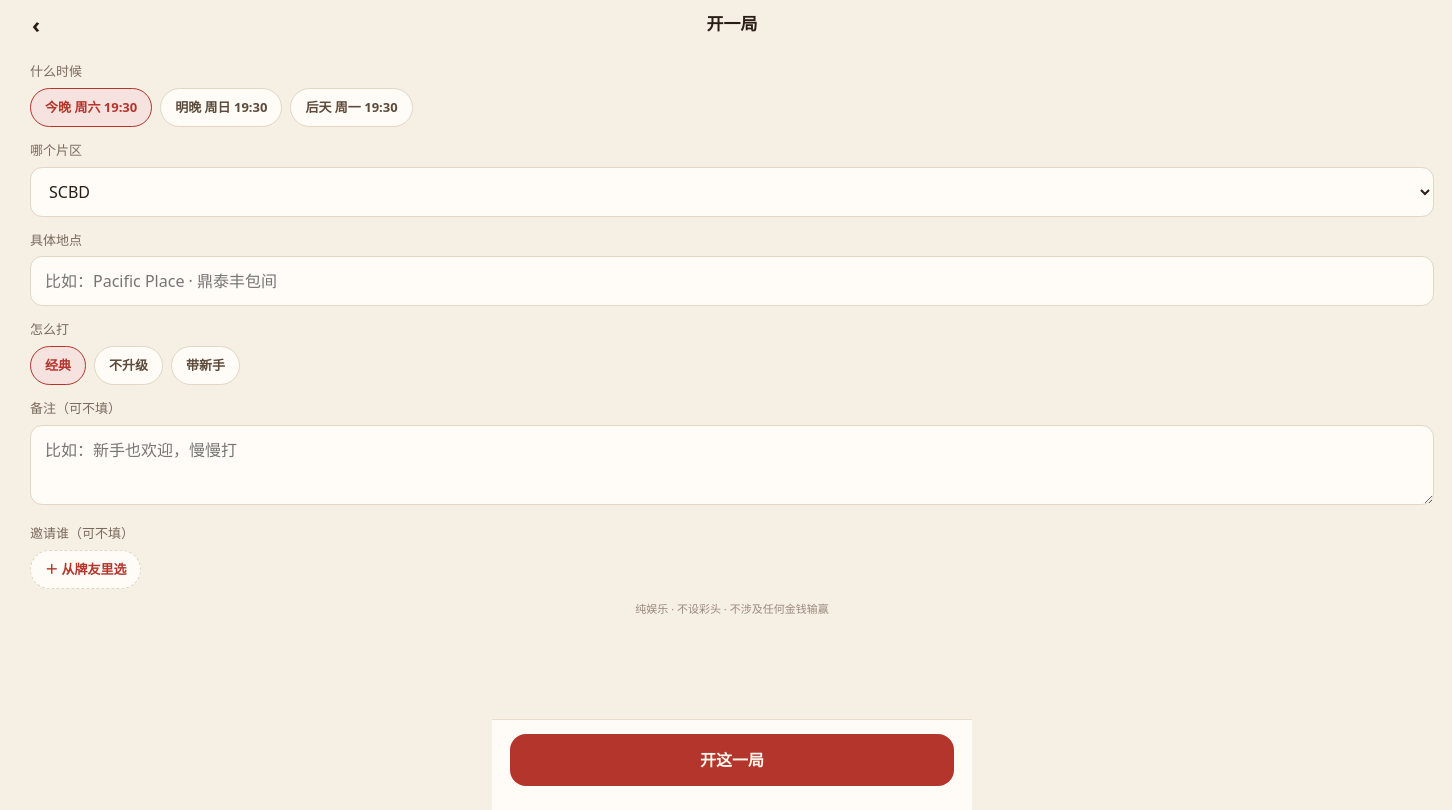
Test: 敏感词（§14、原型 X1） › 用户开始改那个字段，提示就收起来
In the field labelled "具体地点": (732, 281) [30,256,1434,306], type "Pacific Place"
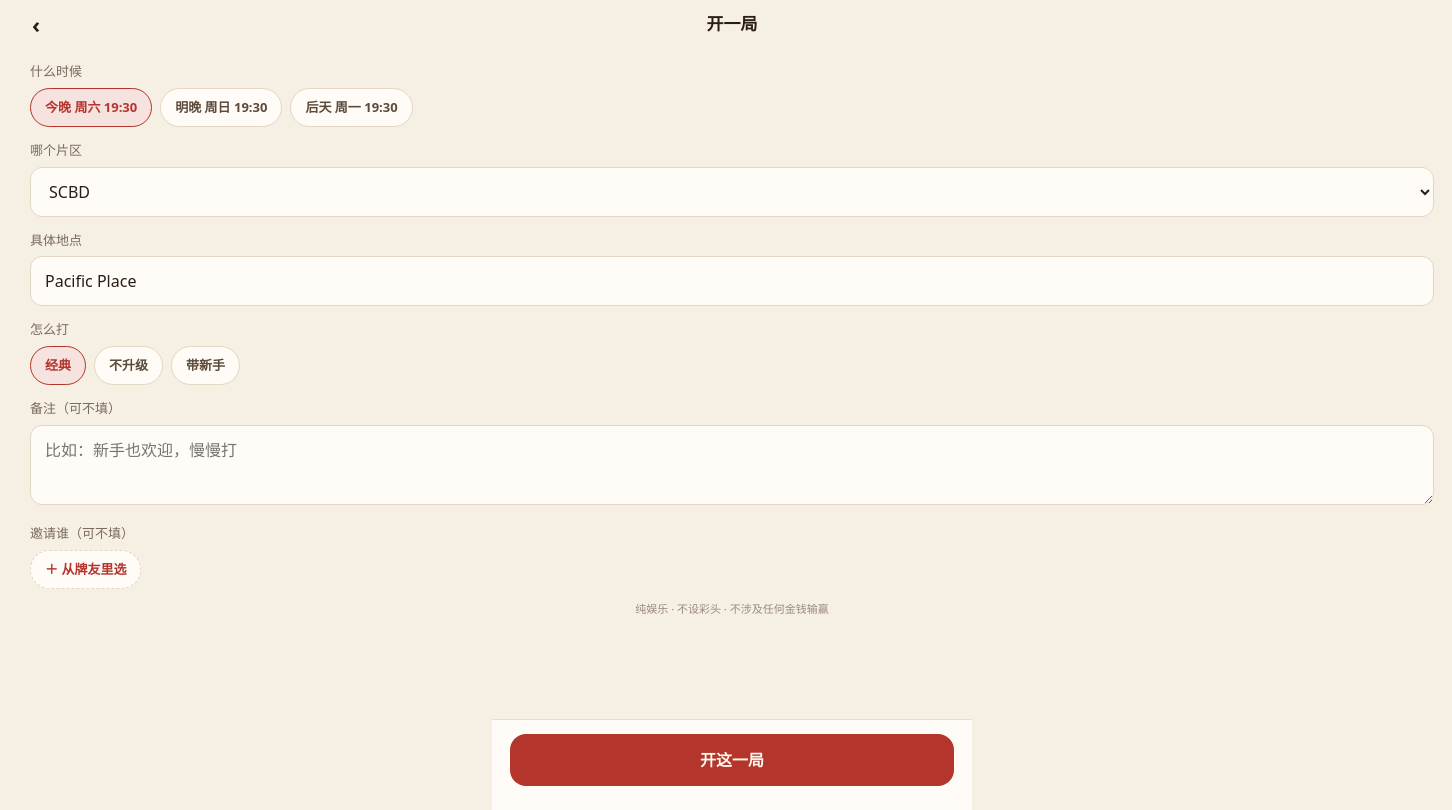
In the text box with id "note": (732, 464) [30,424,1434,504], type "小赌怡情"
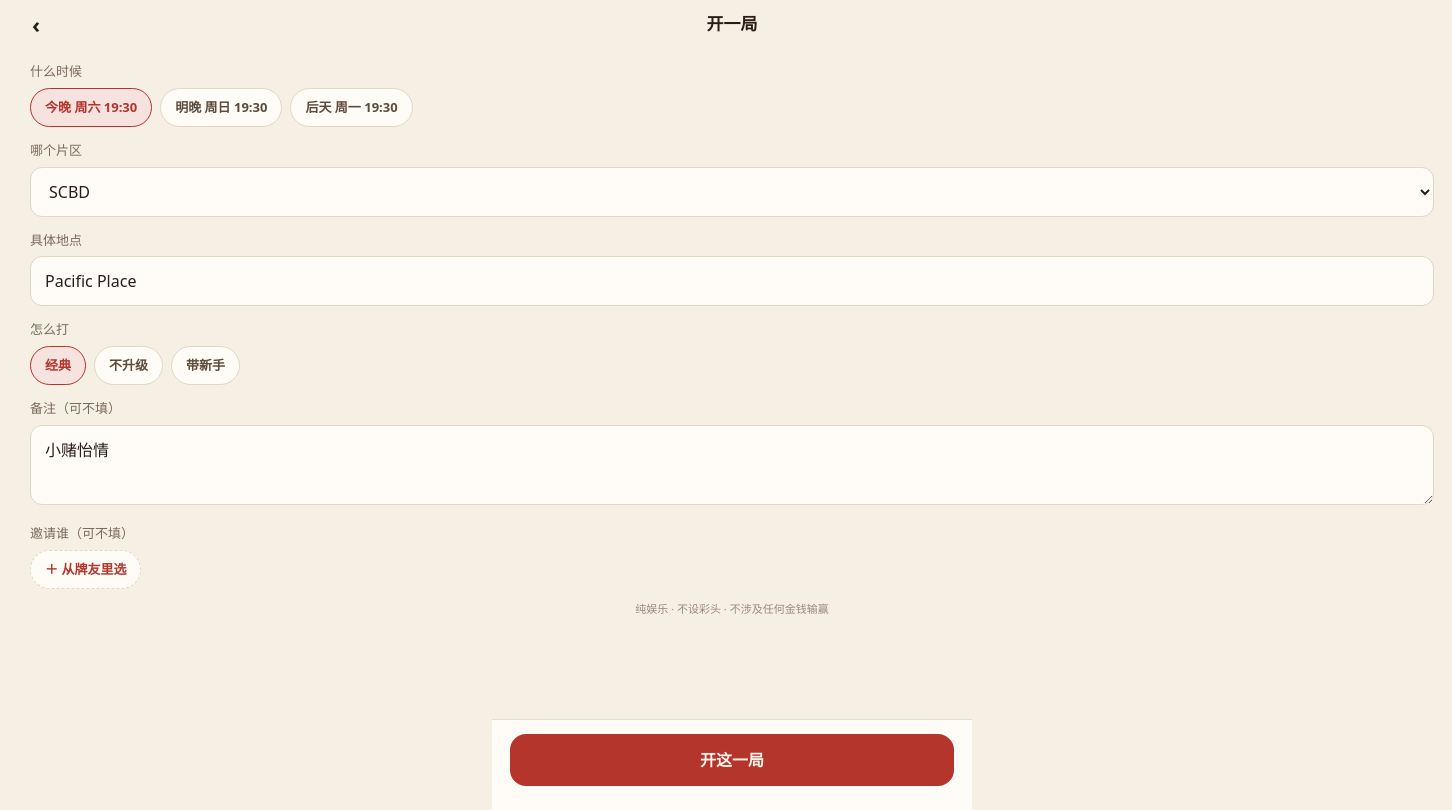
Click the button "开这一局": (732, 760) [510,734,954,786]
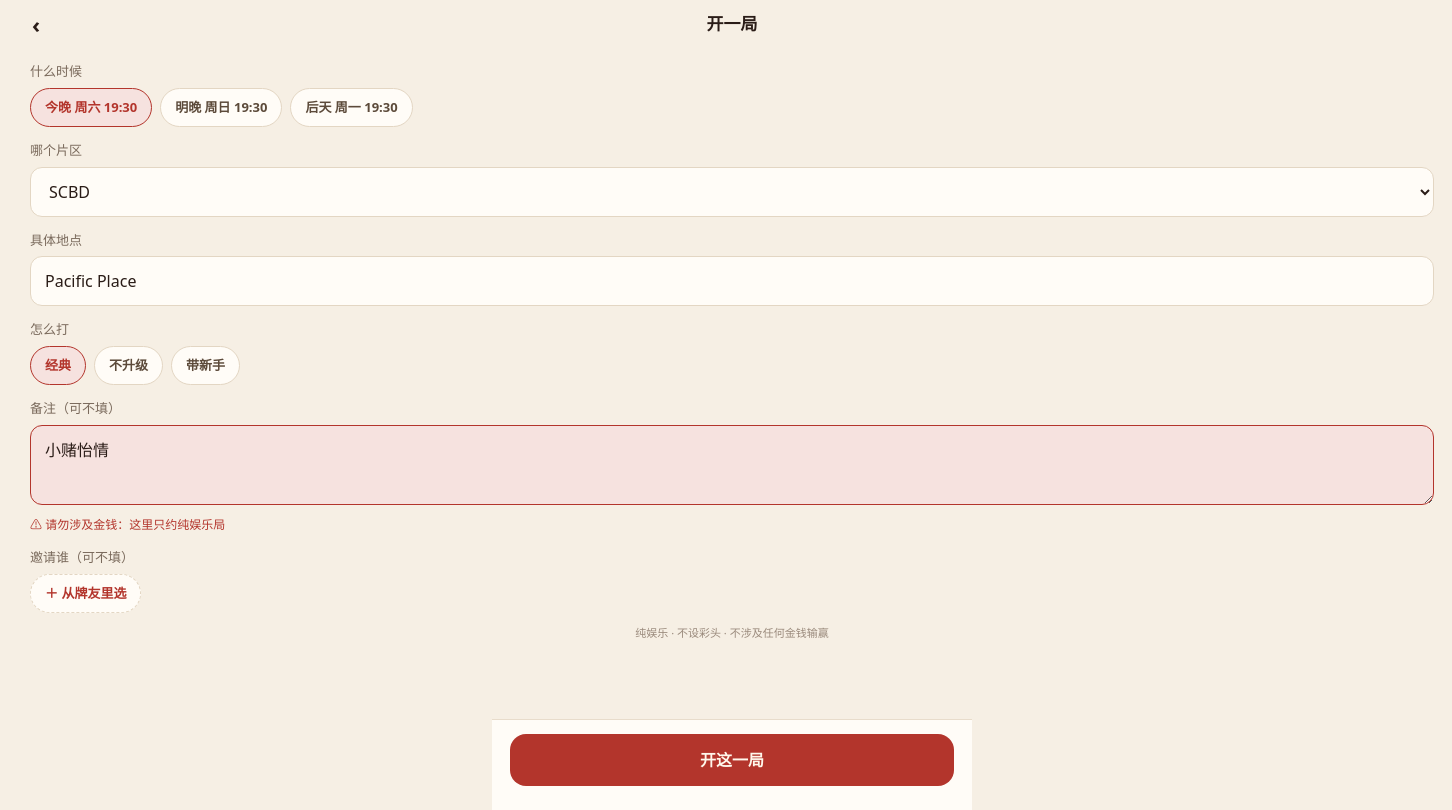
Now the text "⚠ 请勿涉及金钱：这里只约纯娱乐局" is shown, box [30,516,225,533]
Replace the text in the text box with id "note" with "新手局，随便打打": (732, 464) [30,424,1434,504]
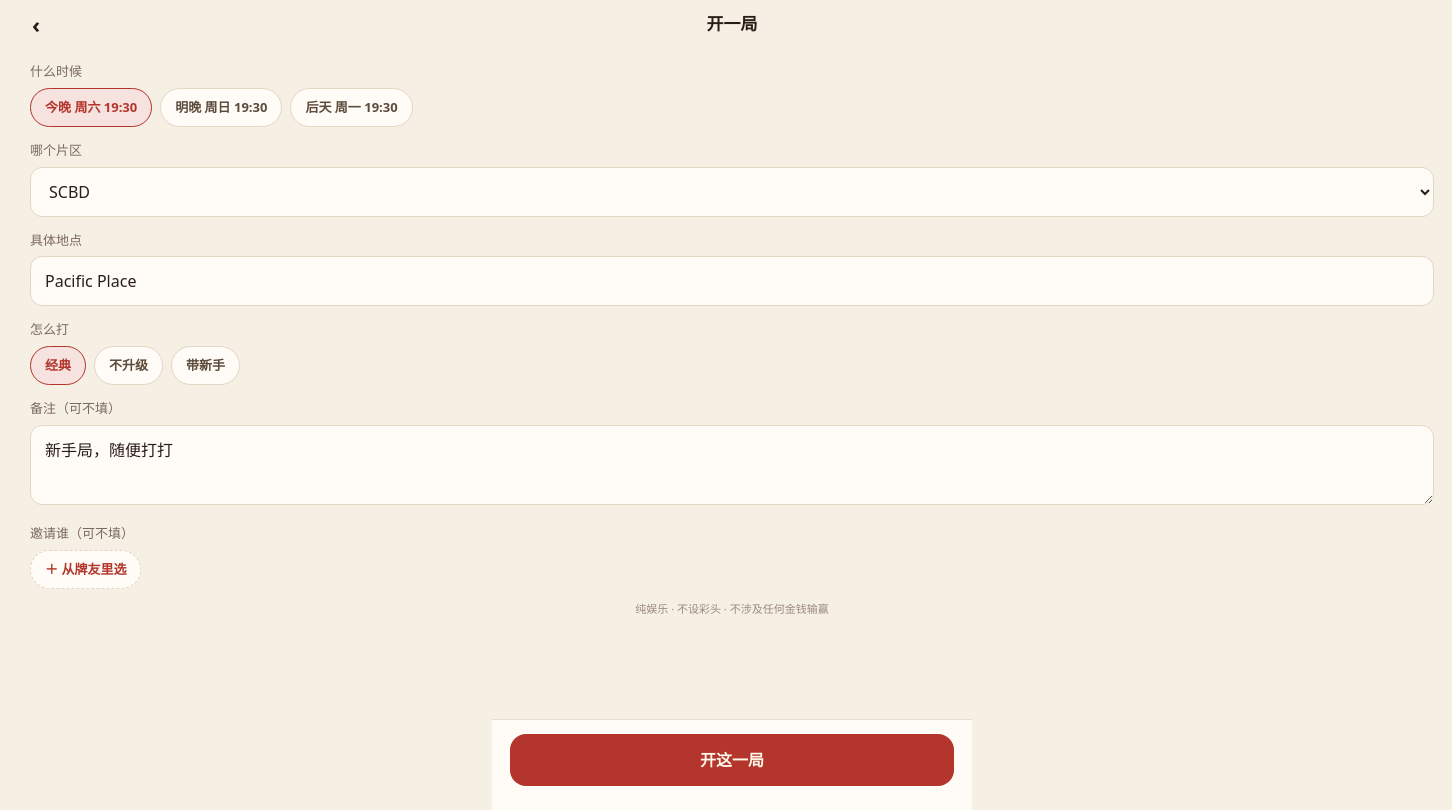
Now the text with class "errmsg" is gone
